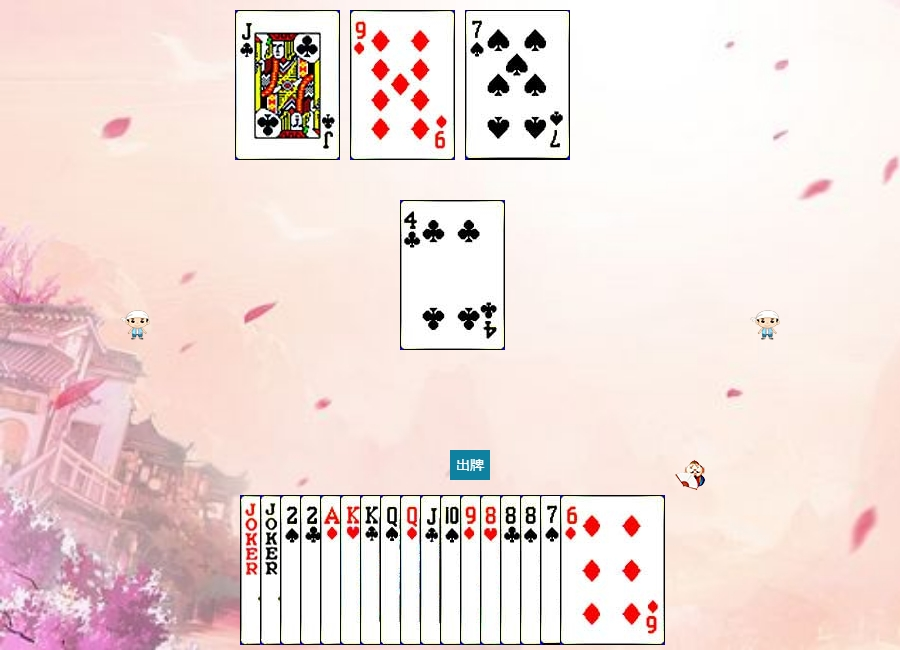10~4: (440, 495, 545, 645)
11~2: (235, 10, 340, 160), (420, 495, 525, 645)
12~1: (400, 495, 505, 645)
12~4: (380, 495, 485, 645)
13~2: (360, 495, 465, 645)
13~3: (340, 495, 445, 645)
14~1: (320, 495, 425, 645)
15~2: (300, 495, 405, 645)
15~4: (280, 495, 385, 645)
17~3: (260, 495, 365, 645)
18~4: (240, 495, 345, 645)
4~2: (400, 200, 505, 350)
6~1: (560, 495, 665, 645)
7~4: (465, 10, 570, 160), (540, 495, 645, 645)
8~2: (500, 495, 605, 645)
8~3: (480, 495, 585, 645)
8~4: (520, 495, 625, 645)
9~1: (350, 10, 455, 160), (460, 495, 565, 645)
